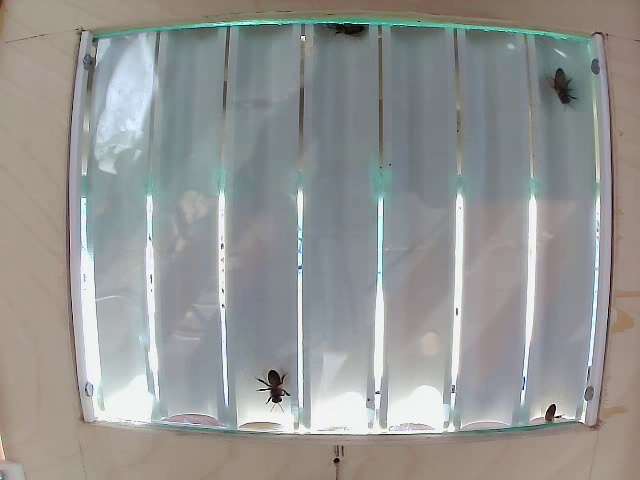bee: (256, 362, 292, 396), (563, 63, 577, 120), (542, 401, 563, 417)
